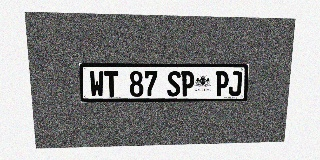7: (144, 71, 157, 97)
8: (129, 71, 143, 97)
J: (228, 71, 242, 96)
P: (215, 71, 229, 96), (181, 71, 194, 96)
S: (167, 71, 181, 96)
T: (104, 71, 119, 97)
W: (89, 71, 104, 97)
